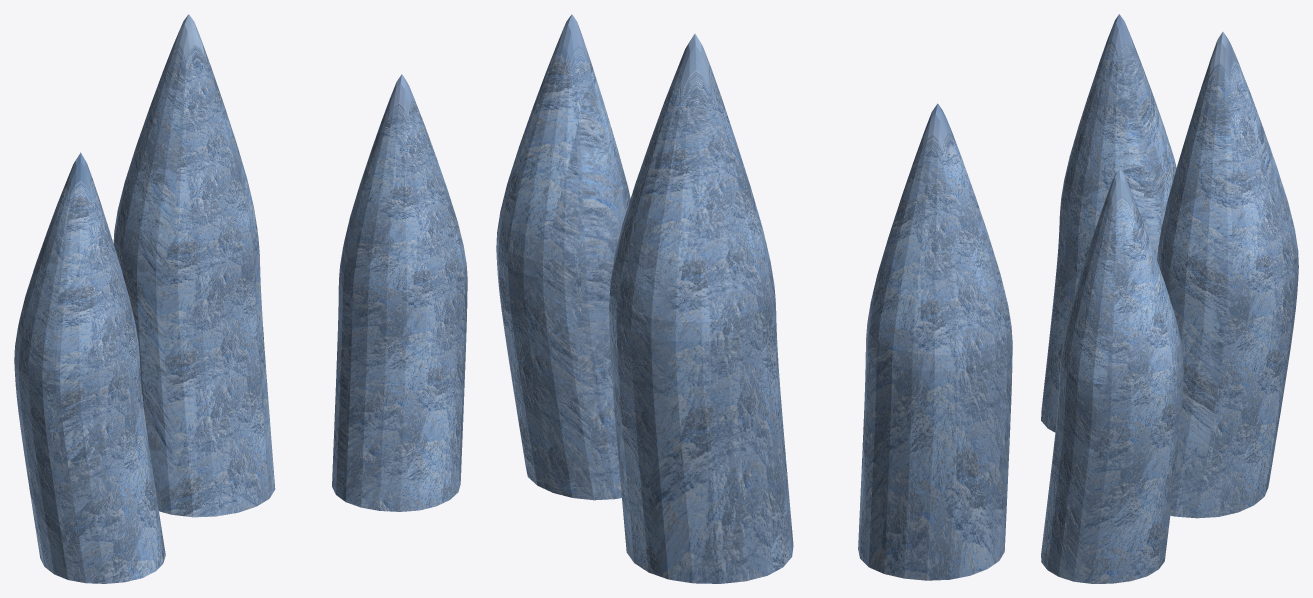
File: iceSpikes.fbx
3 views of the same model, side by side, from view 1: azimuth 30°, elevation 25°; view 2: azimuth 150°, elevation 25°; view 3: azimuth 270°, elevation 25° (orthographic). The views are drawn at different scales.
Parts seen in each view (by area): view 1: Spikes; view 2: Spikes; view 3: Spikes.
Boxes of the visible parts, x1,y1,x2,y2 form: Spikes: (14,14,467,583); Spikes: (496,14,1012,583); Spikes: (1041,14,1298,583).
Size of the model in its own units: 381 by 388 by 199.
Materials: 1 (1 with a texture image).
